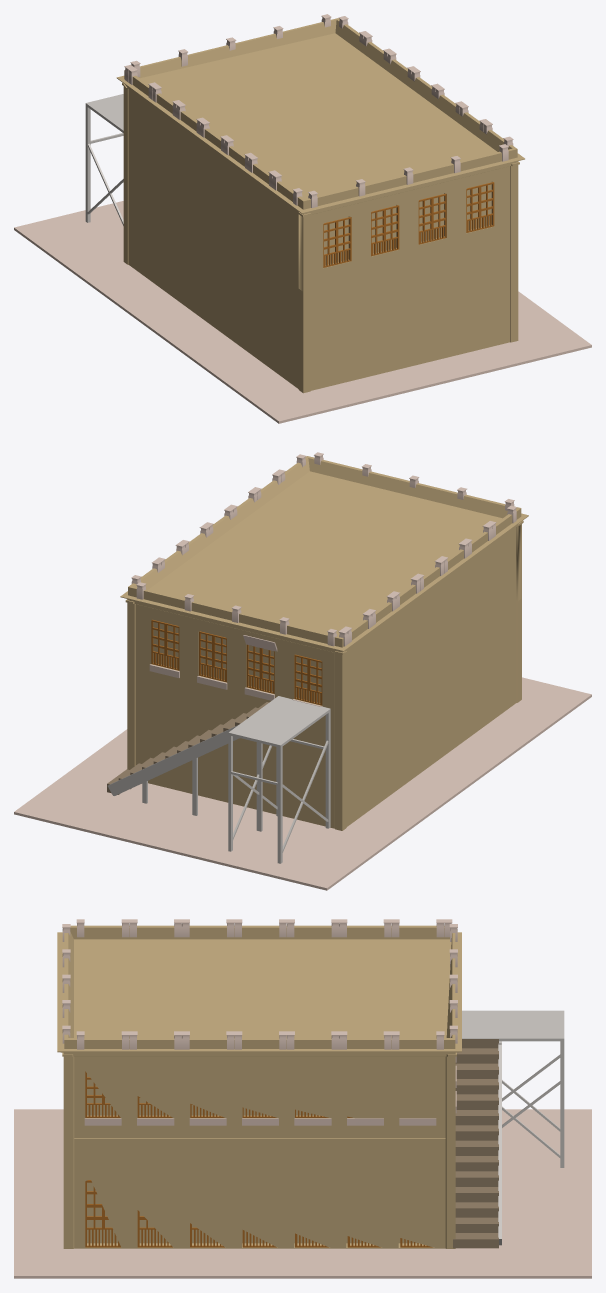
Rendered from 绘事院.fbx.
3 views of the same model, one above another, from view 1: azimuth 30°, elevation 25°; view 2: azimuth 150°, elevation 25°; view 3: azimuth 270°, elevation 25° (orthographic). The views are drawn at different scales.
Parts seen in each view (by area): view 1: pCube61, pPlane55, pPlane52, pPlane9_2, pPlane10_2, pPlane11_2, pPlane8_2; view 2: pCube61, pPlane55, pPlane52, pCube62, pPlane11, pPlane8, pPlane9, pPlane10, pCube63; view 3: pCube61, pPlane55, pPlane52, pPlane12, pCube62, pPlane51, pPlane44, pPlane47, pPlane49, pPlane45, pPlane46, pPlane48 (+8 smaller).
Boxes of the visible parts, bbox=[...] form: pCube61: bbox=[116, 18, 524, 393]; pPlane55: bbox=[14, 201, 591, 423]; pPlane52: bbox=[85, 94, 123, 222]; pPlane9_2: bbox=[418, 193, 446, 244]; pPlane10_2: bbox=[371, 205, 399, 256]; pPlane11_2: bbox=[323, 217, 351, 267]; pPlane8_2: bbox=[466, 182, 494, 232]; pCube61: bbox=[120, 456, 528, 830]; pPlane55: bbox=[14, 677, 591, 890]; pPlane52: bbox=[228, 696, 330, 863]; pCube62: bbox=[107, 725, 239, 795]; pPlane11: bbox=[294, 654, 322, 705]; pPlane8: bbox=[151, 619, 179, 670]; pPlane9: bbox=[199, 631, 226, 682]; pPlane10: bbox=[246, 644, 274, 693]; pCube63: bbox=[256, 742, 262, 831]; pCube61: bbox=[57, 925, 461, 1248]; pPlane55: bbox=[14, 1109, 591, 1278]; pPlane52: bbox=[462, 1010, 564, 1167]; pPlane12: bbox=[85, 1180, 120, 1247]; pCube62: bbox=[498, 1041, 501, 1245]; pPlane51: bbox=[453, 1233, 498, 1248]; pPlane44: bbox=[455, 1125, 498, 1140]; pPlane47: bbox=[455, 1171, 498, 1186]; pPlane49: bbox=[455, 1202, 498, 1217]; pPlane45: bbox=[455, 1140, 498, 1155]; pPlane46: bbox=[455, 1156, 498, 1171]; pPlane48: bbox=[455, 1187, 498, 1202].
Bounding box in the file's own units: 52.61 × 32 × 77.1.
